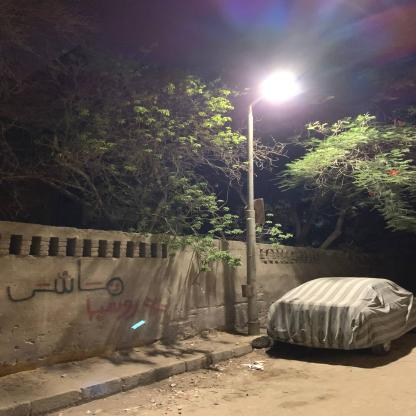light_pole: (246, 79, 297, 335)
